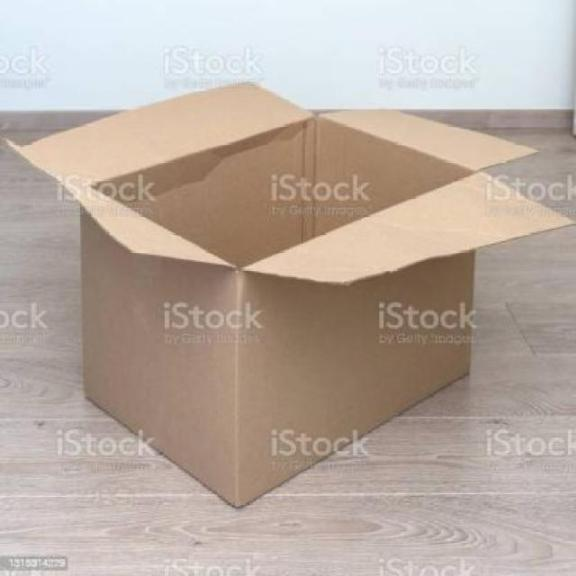Kertas: (7, 83, 572, 506)
